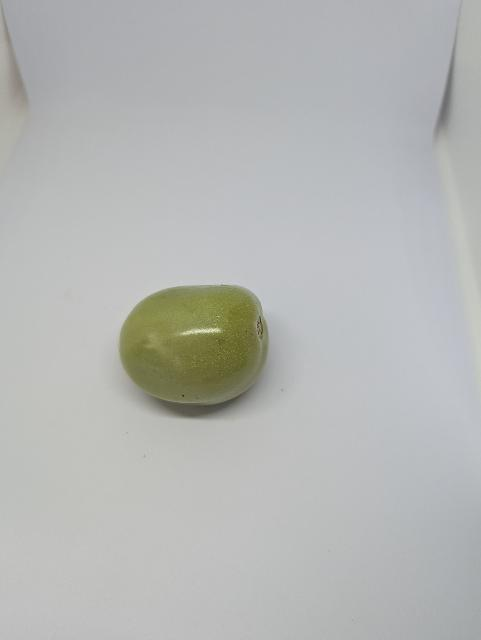green: (118, 282, 274, 410)
